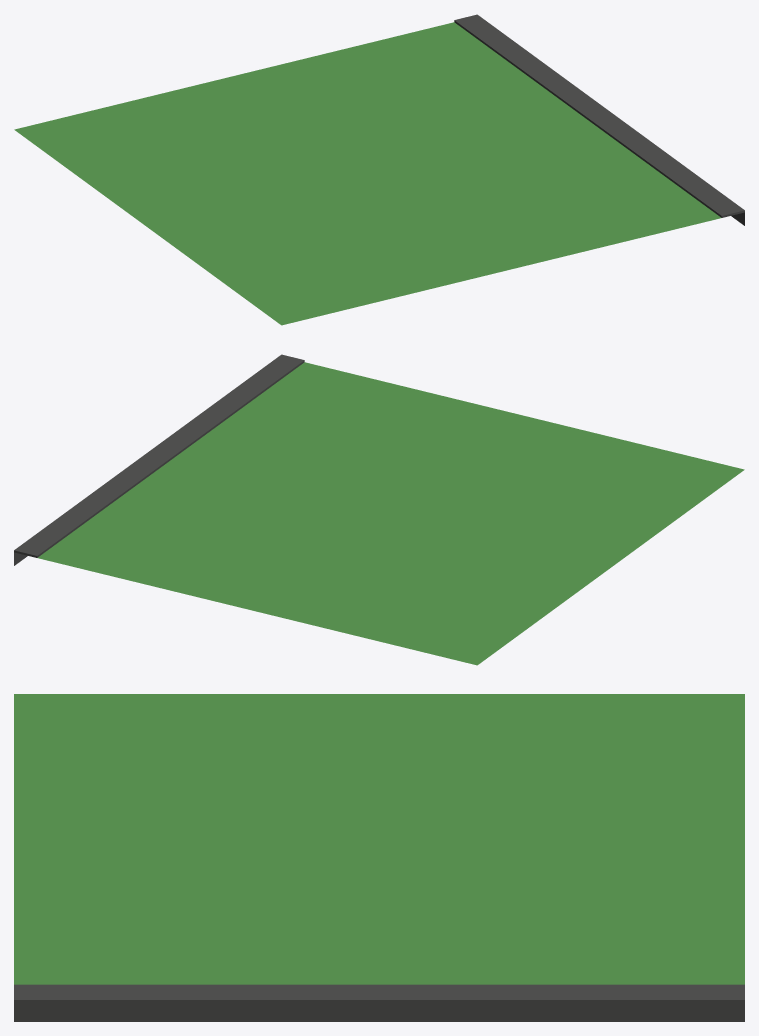
The model's file is M_Grass350x350_4.fbx.
3 renders of one model, top to bottom at view 1: azimuth 30°, elevation 25°; view 2: azimuth 150°, elevation 25°; view 3: azimuth 270°, elevation 25°, orthographic. The views are drawn at different scales.
Parts seen in each view (by area): view 1: M_Grass350x350_4; view 2: M_Grass350x350_4; view 3: M_Grass350x350_4.
Boxes of the visible parts, <box> form: M_Grass350x350_4: <box>14,14,744,325</box>; M_Grass350x350_4: <box>14,354,744,665</box>; M_Grass350x350_4: <box>14,694,744,1021</box>.
Bounding box in the file's own units: 350 × 350 × 11.5.
